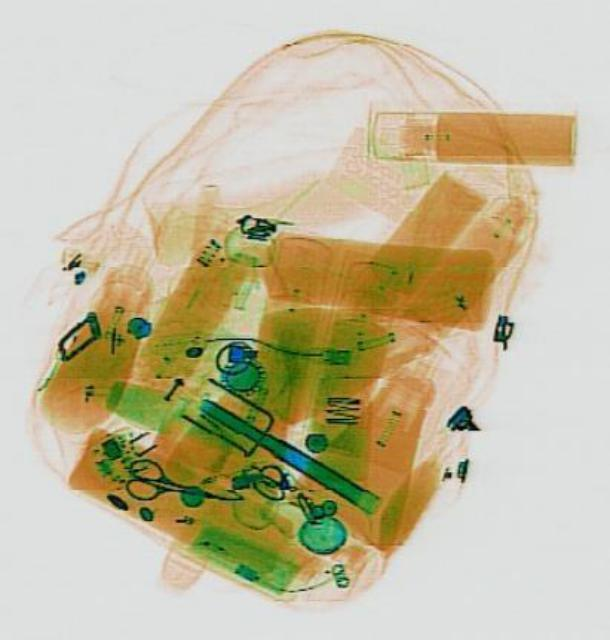Scissors: (116, 452, 215, 518)
